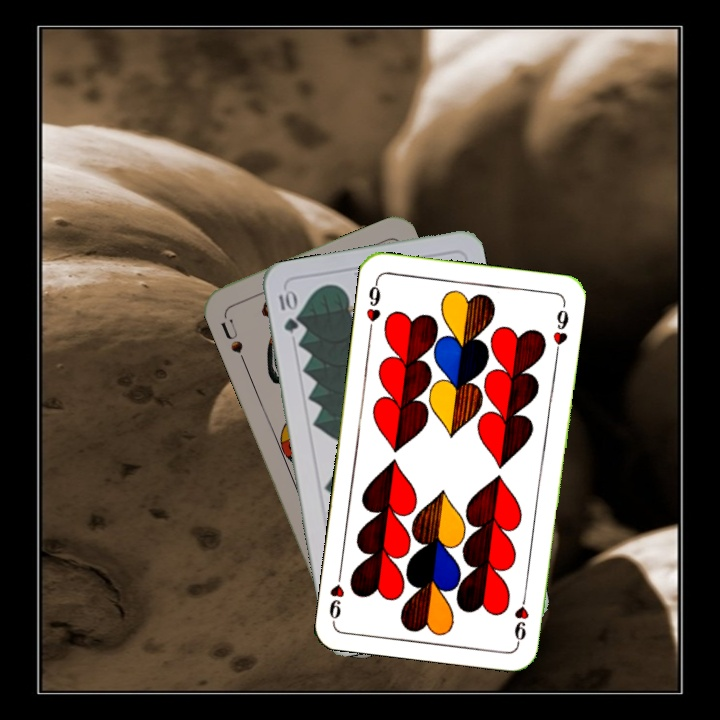G10: (274, 286, 301, 336)
H9: (510, 587, 532, 646), (362, 276, 383, 335)
SU: (217, 314, 249, 367)
